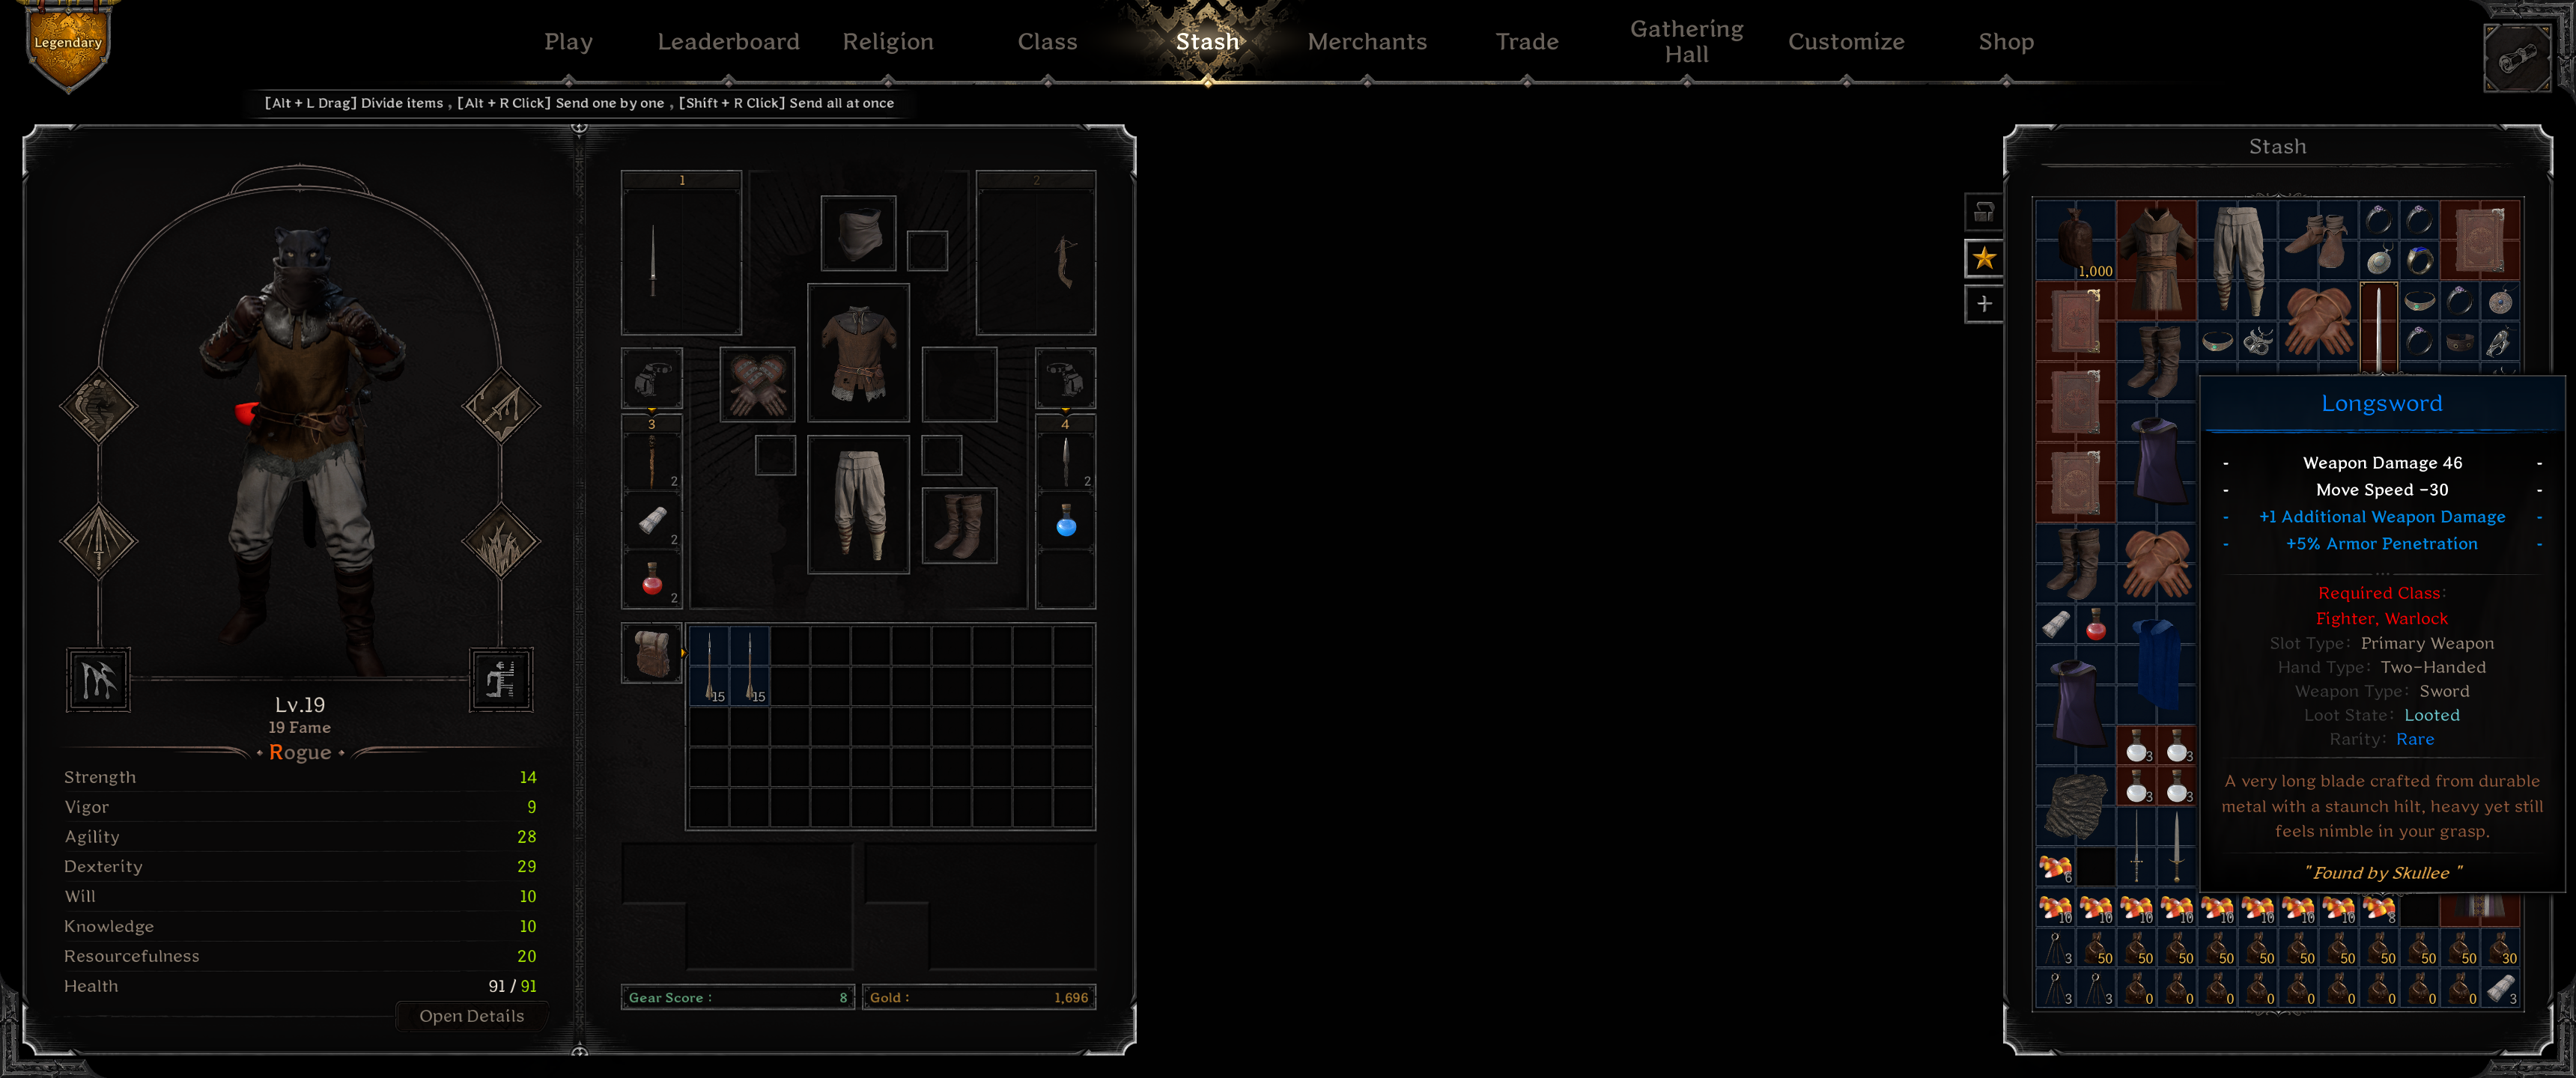Tooltip: (2198, 373, 2568, 894)
